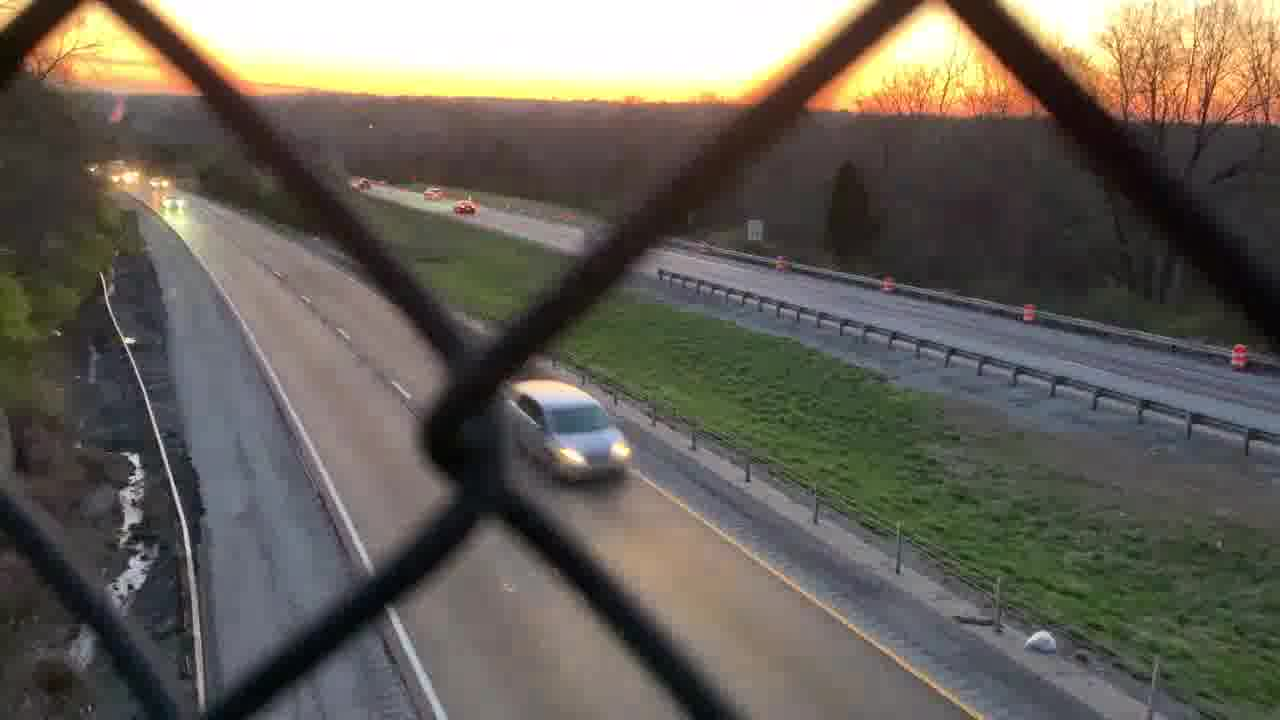largeCar: (501, 380, 637, 482)
